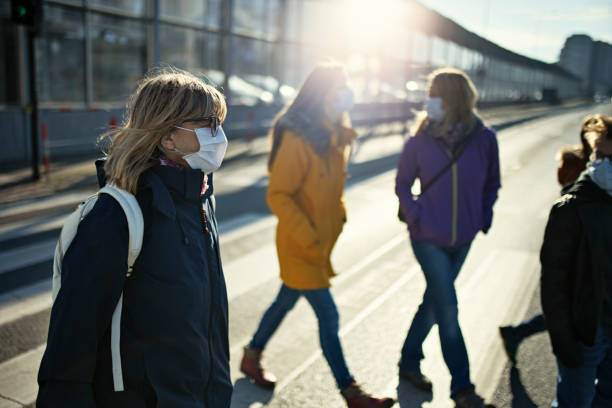with mask: (151, 78, 236, 179), (300, 49, 370, 119), (420, 70, 479, 131), (585, 122, 612, 189)
